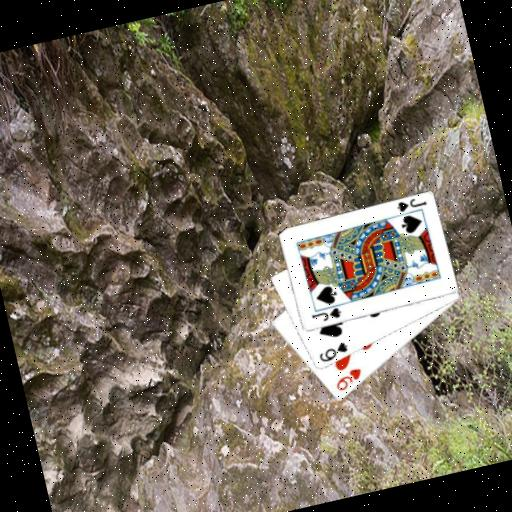6S: (315, 339, 352, 365)
9H: (330, 365, 366, 395)
JS: (308, 304, 344, 326), (393, 194, 429, 215)
